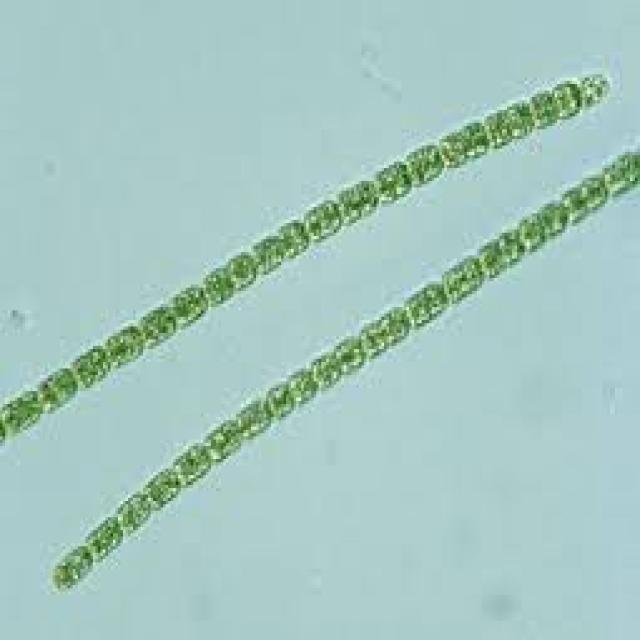Blue Green Algae: (48, 543, 95, 595), (442, 255, 484, 307), (166, 281, 210, 330), (68, 340, 110, 391), (402, 139, 446, 187), (103, 320, 145, 368), (136, 301, 178, 349), (35, 365, 78, 411), (143, 465, 186, 511), (404, 284, 447, 330), (113, 488, 151, 540), (372, 155, 412, 204), (602, 146, 640, 197), (336, 178, 379, 223), (304, 194, 344, 242), (170, 439, 210, 485), (2, 388, 42, 433), (206, 417, 243, 465), (86, 514, 120, 562), (459, 113, 492, 162), (286, 362, 324, 404), (236, 398, 273, 440), (279, 216, 311, 262), (251, 230, 286, 272), (527, 90, 562, 132), (582, 65, 612, 113), (312, 346, 346, 388), (534, 197, 570, 236), (336, 333, 369, 375), (552, 74, 582, 120), (379, 304, 414, 342), (484, 103, 512, 149), (474, 236, 507, 275), (439, 126, 467, 168), (507, 97, 535, 139), (204, 265, 234, 304), (226, 252, 258, 288), (266, 381, 296, 417), (497, 226, 527, 262), (359, 316, 384, 356), (517, 210, 542, 249), (580, 171, 607, 207), (562, 184, 585, 223)
